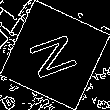N_E: (24, 27, 86, 83)
